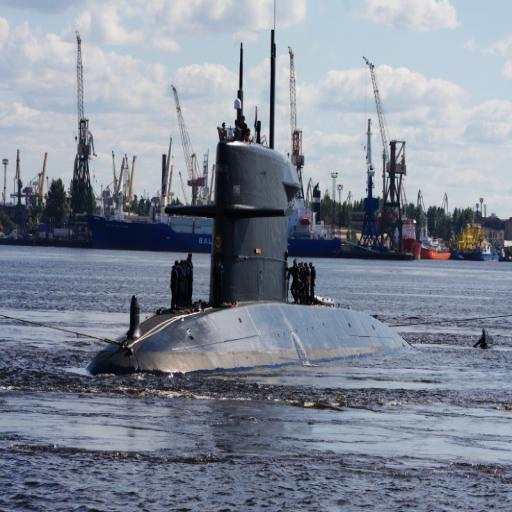submarine: (86, 23, 463, 378)
